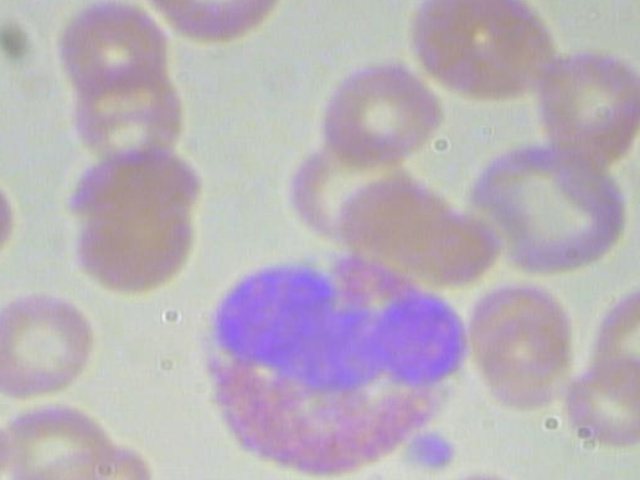RBC: (409, 0, 574, 113), (312, 48, 447, 168), (61, 190, 201, 296), (524, 45, 640, 164), (0, 286, 105, 406), (46, 0, 174, 94), (555, 349, 640, 449), (572, 284, 640, 407)
WBC: (192, 242, 482, 480)
